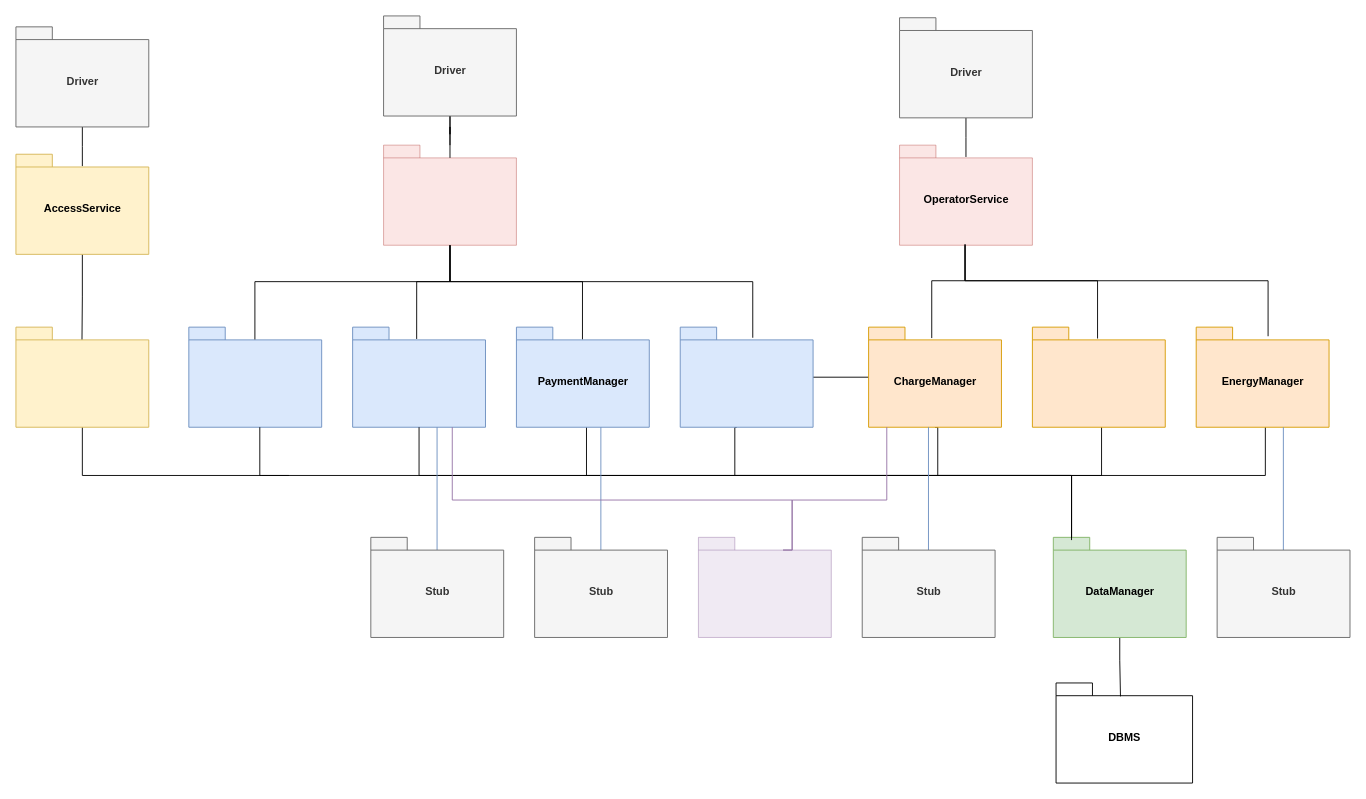
This 1366x799 diagram has some shape labels left out. The centre of each missing label's shape, as x and y in pixels:
"BookingManager" belongs at (x=746, y=376).
"DriverService" belongs at (x=449, y=194).
"GeolocationManager" belongs at (x=255, y=376).
"NotificationManager" belongs at (x=764, y=586).
"StationManager" belongs at (x=1098, y=376).
"SuggestionManager" belongs at (x=418, y=376).
"UserManager" belongs at (x=82, y=376).
